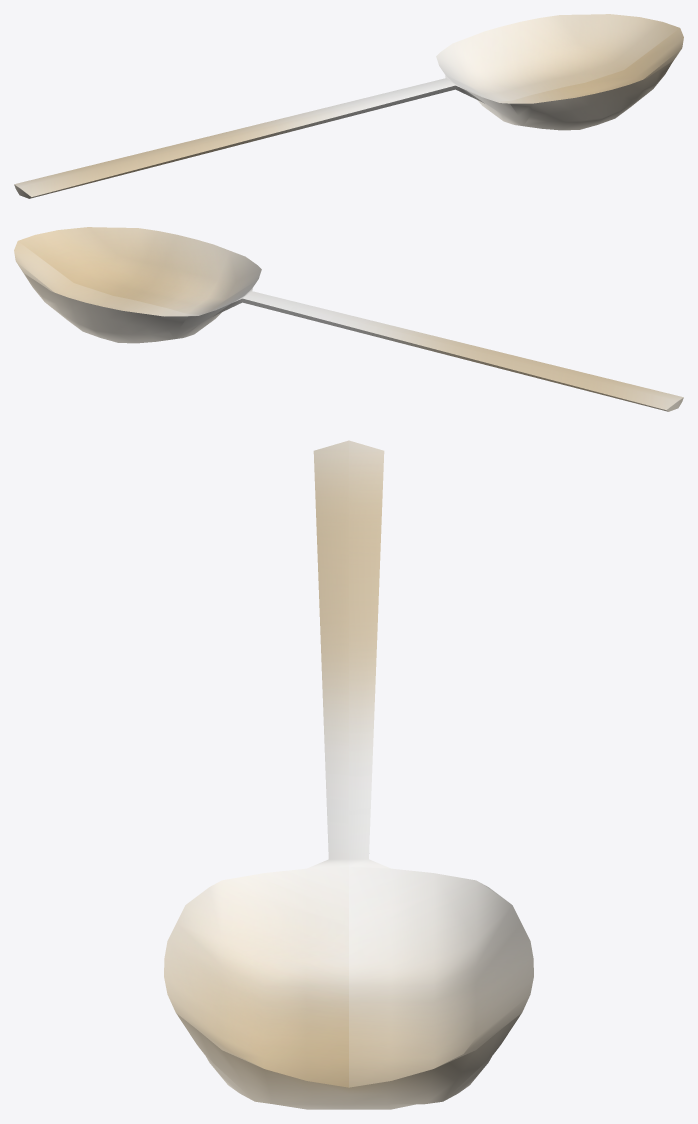
File: Spoon.fbx
The picture shows the model from 3 angles, top to bottom: view 1: azimuth 30°, elevation 25°; view 2: azimuth 150°, elevation 25°; view 3: azimuth 270°, elevation 25°; orthographic projection. The views are drawn at different scales.
Parts seen in each view (by area): view 1: pCube1; view 2: pCube1; view 3: pCube1.
Boxes of the visible parts, box(x1,y1,x2,y2) form: pCube1: box(14, 14, 683, 198); pCube1: box(14, 227, 683, 411); pCube1: box(164, 440, 533, 1109).
Size of the model in its own units: 4.5 by 0.3697 by 1.09.
1 material, 1 textured.
